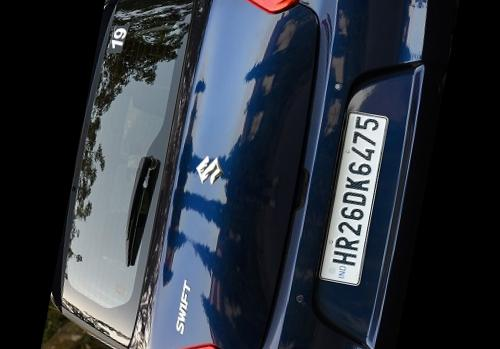plate: (302, 95, 402, 306)
